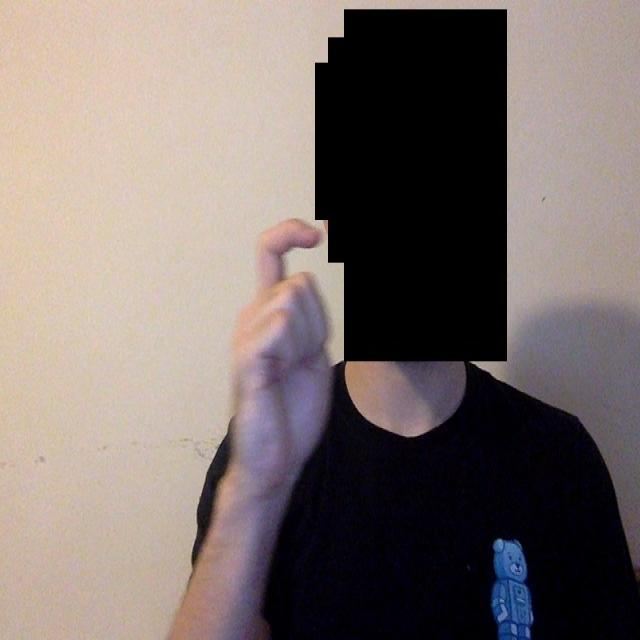X: (205, 199, 369, 491)
